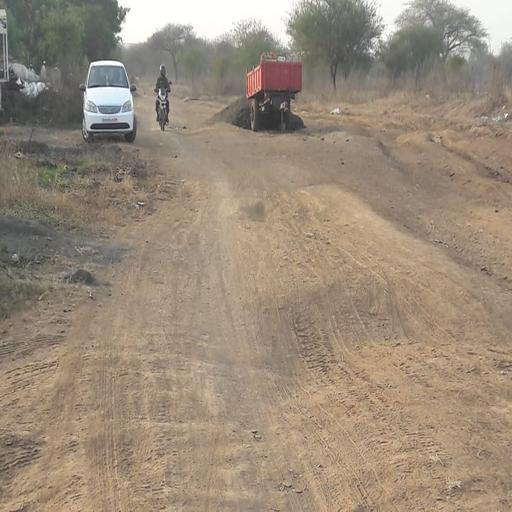vehicle_track: (85, 134, 323, 512)
